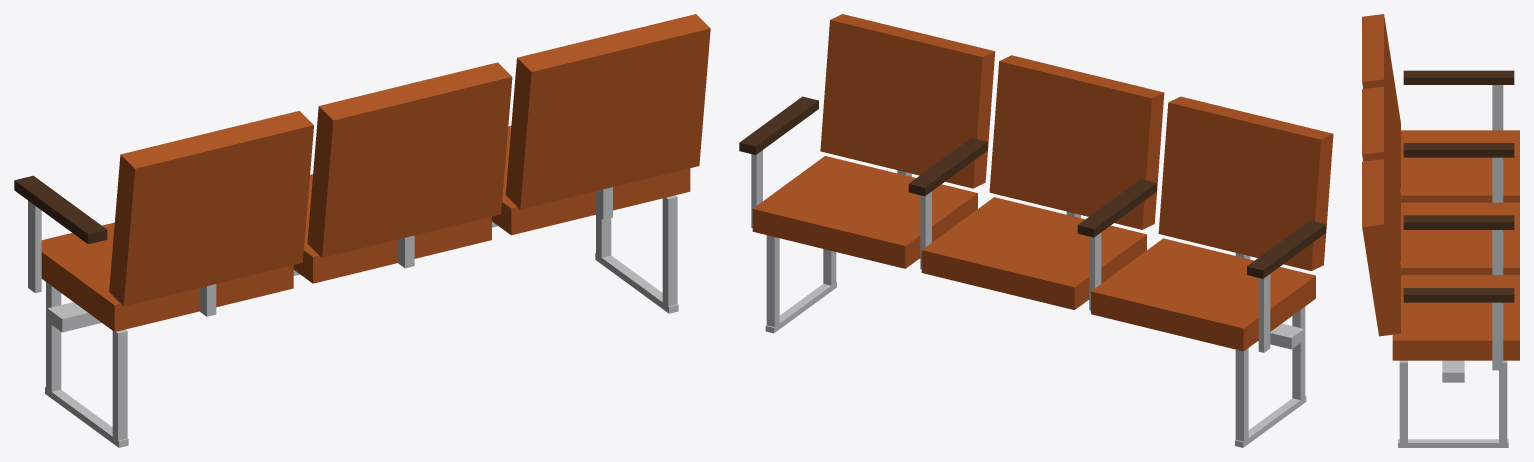
File: SM_80s_WaitingChairs.glb
3 views of the same model, side by side, from view 1: azimuth 30°, elevation 25°; view 2: azimuth 150°, elevation 25°; view 3: azimuth 270°, elevation 25° (orthographic). The views are drawn at different scales.
Parts seen in each view (by area): view 1: SM_80s_WaitingChairs; view 2: SM_80s_WaitingChairs; view 3: SM_80s_WaitingChairs.
Boxes of the visible parts, <box> form: SM_80s_WaitingChairs: <box>14,14,710,447</box>; SM_80s_WaitingChairs: <box>739,14,1333,447</box>; SM_80s_WaitingChairs: <box>1362,14,1519,447</box>.
Size of the model in its own units: 2.53 by 1.19 by 0.7527.
